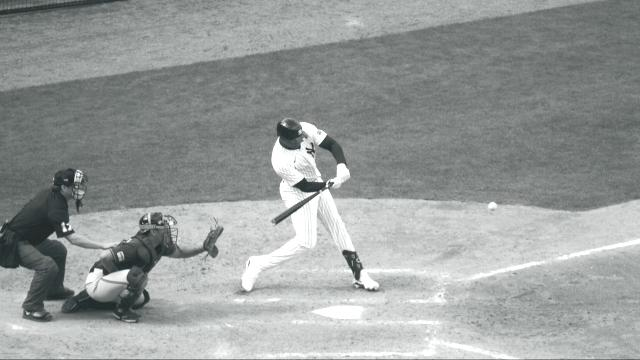ball: (488, 200, 498, 210)
bat: (271, 186, 327, 226)
